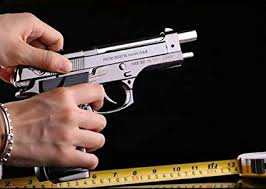Gun: (5, 23, 220, 189)
